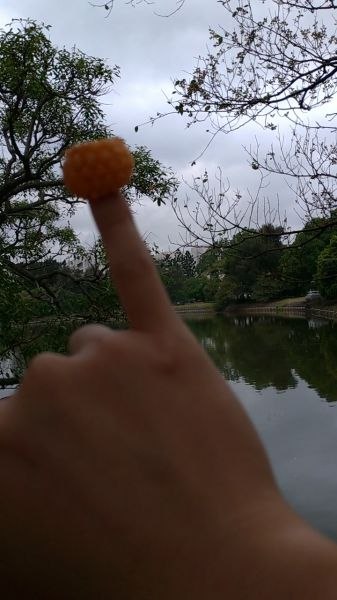eggs: (62, 138, 136, 196)
